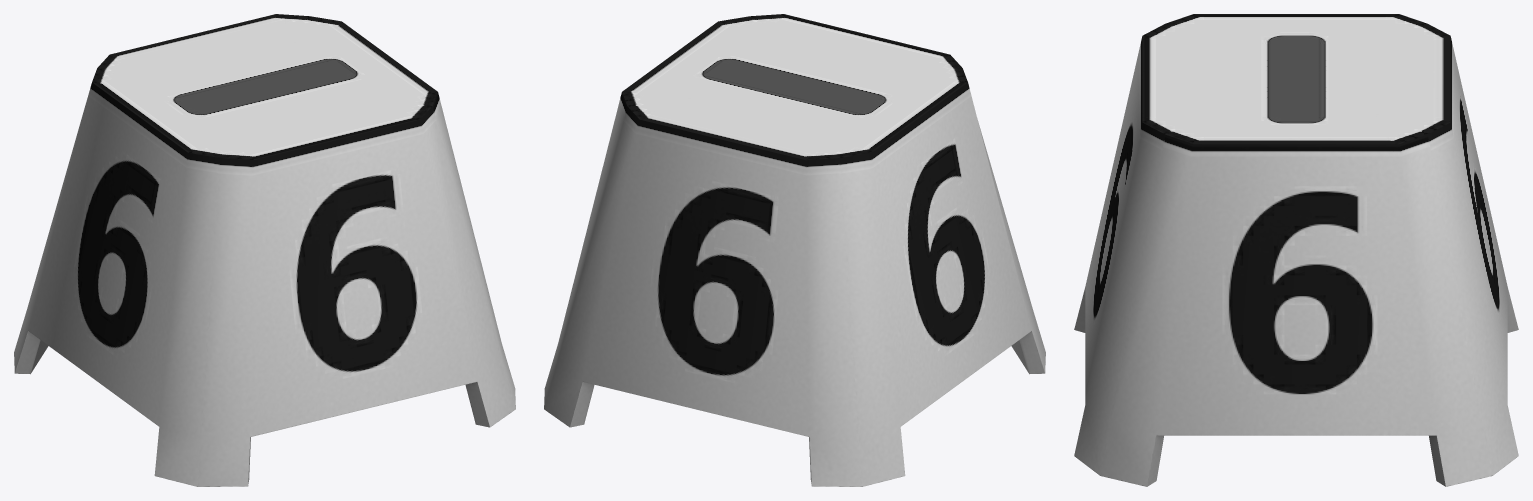
The picture shows the model from 3 angles, left to right: view 1: azimuth 30°, elevation 25°; view 2: azimuth 150°, elevation 25°; view 3: azimuth 270°, elevation 25°; orthographic projection. The views are drawn at different scales.
Visible parts, largest first — view 1: No_6_Box; view 2: No_6_Box; view 3: No_6_Box.
Part boxes in pixels (<box>): No_6_Box: <box>14,14,515,486</box>; No_6_Box: <box>544,14,1045,486</box>; No_6_Box: <box>1074,14,1518,486</box>.
Bounding box in the file's own units: 0.4097 × 0.319 × 0.4097.
1 material, 1 textured.
